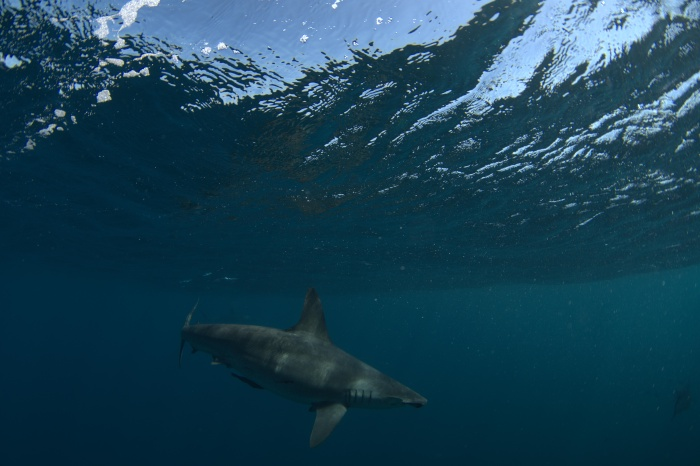Hammer: (146, 269, 469, 461)
